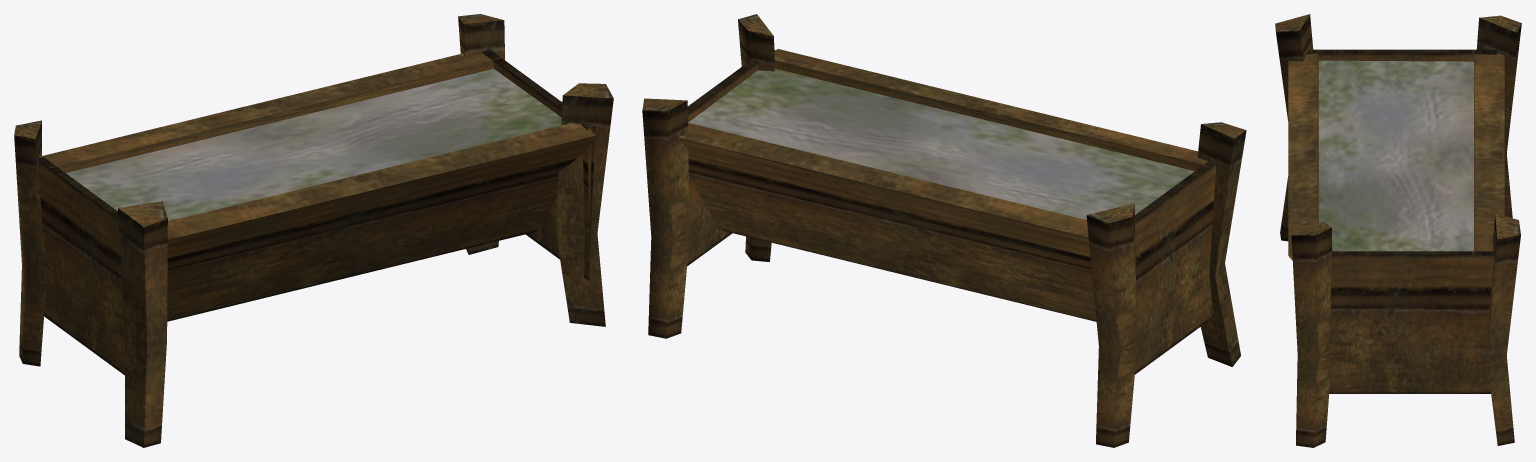
The model's file is horse_trough.fbx.
3 views of the same model, side by side, from view 1: azimuth 30°, elevation 25°; view 2: azimuth 150°, elevation 25°; view 3: azimuth 270°, elevation 25° (orthographic). The views are drawn at different scales.
Parts seen in each view (by area): view 1: nurbsToPoly1, nurbsToPoly8, nurbsToPoly3, nurbsToPoly4, nurbsToPoly7, nurbsToPoly5, nurbsToPoly2, nurbsToPoly6, polySurface6; view 2: nurbsToPoly1, nurbsToPoly8, nurbsToPoly3, nurbsToPoly5, nurbsToPoly6, nurbsToPoly4, nurbsToPoly2, nurbsToPoly7; view 3: nurbsToPoly8, nurbsToPoly2, nurbsToPoly1, nurbsToPoly7, nurbsToPoly6, nurbsToPoly5, nurbsToPoly3, nurbsToPoly4, polySurface3, polySurface6, polySurface5, polySurface4.
Boxes of the visible parts, <box> form: nurbsToPoly1: <box>39,53,595,321</box>; nurbsToPoly8: <box>66,68,561,221</box>; nurbsToPoly3: <box>38,157,124,375</box>; nurbsToPoly4: <box>118,208,167,447</box>; nurbsToPoly7: <box>555,95,613,326</box>; nurbsToPoly5: <box>14,121,46,366</box>; nurbsToPoly2: <box>483,49,595,280</box>; nurbsToPoly6: <box>458,16,504,254</box>; polySurface6: <box>118,201,167,226</box>; nurbsToPoly1: <box>678,49,1207,321</box>; nurbsToPoly8: <box>688,68,1194,219</box>; nurbsToPoly3: <box>1134,160,1216,374</box>; nurbsToPoly5: <box>1086,204,1137,447</box>; nurbsToPoly6: <box>642,100,689,338</box>; nurbsToPoly4: <box>1197,124,1246,366</box>; nurbsToPoly2: <box>687,49,774,266</box>; nurbsToPoly7: <box>738,20,774,261</box>; nurbsToPoly8: <box>1318,60,1473,251</box>; nurbsToPoly2: <box>1329,251,1494,393</box>; nurbsToPoly1: <box>1288,53,1504,383</box>; nurbsToPoly7: <box>1291,227,1331,447</box>; nurbsToPoly6: <box>1486,214,1520,445</box>; nurbsToPoly5: <box>1476,18,1521,218</box>; nurbsToPoly3: <box>1306,49,1496,61</box>; nurbsToPoly4: <box>1276,14,1313,241</box>; polySurface3: <box>1495,213,1520,239</box>; polySurface6: <box>1275,14,1309,32</box>; polySurface5: <box>1479,15,1521,32</box>; polySurface4: <box>1292,221,1331,235</box>.
Bounding box in the file's own units: 918 × 415 × 429.
Materials: 1 (1 with a texture image).
